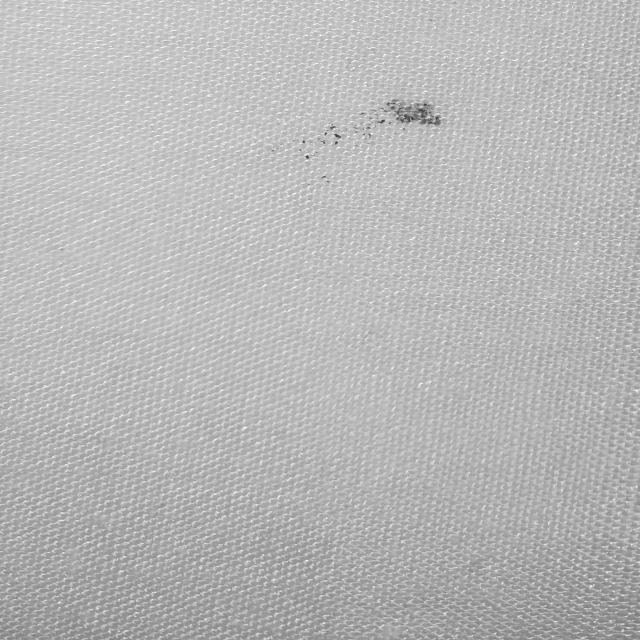Stain: (271, 98, 446, 162)
